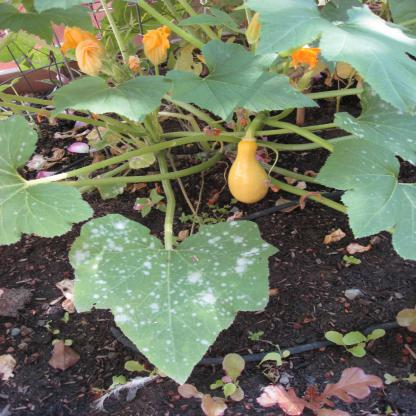squash powdery mildew leaf: (67, 211, 275, 383), (0, 112, 91, 233), (324, 140, 416, 252), (329, 109, 416, 167)
